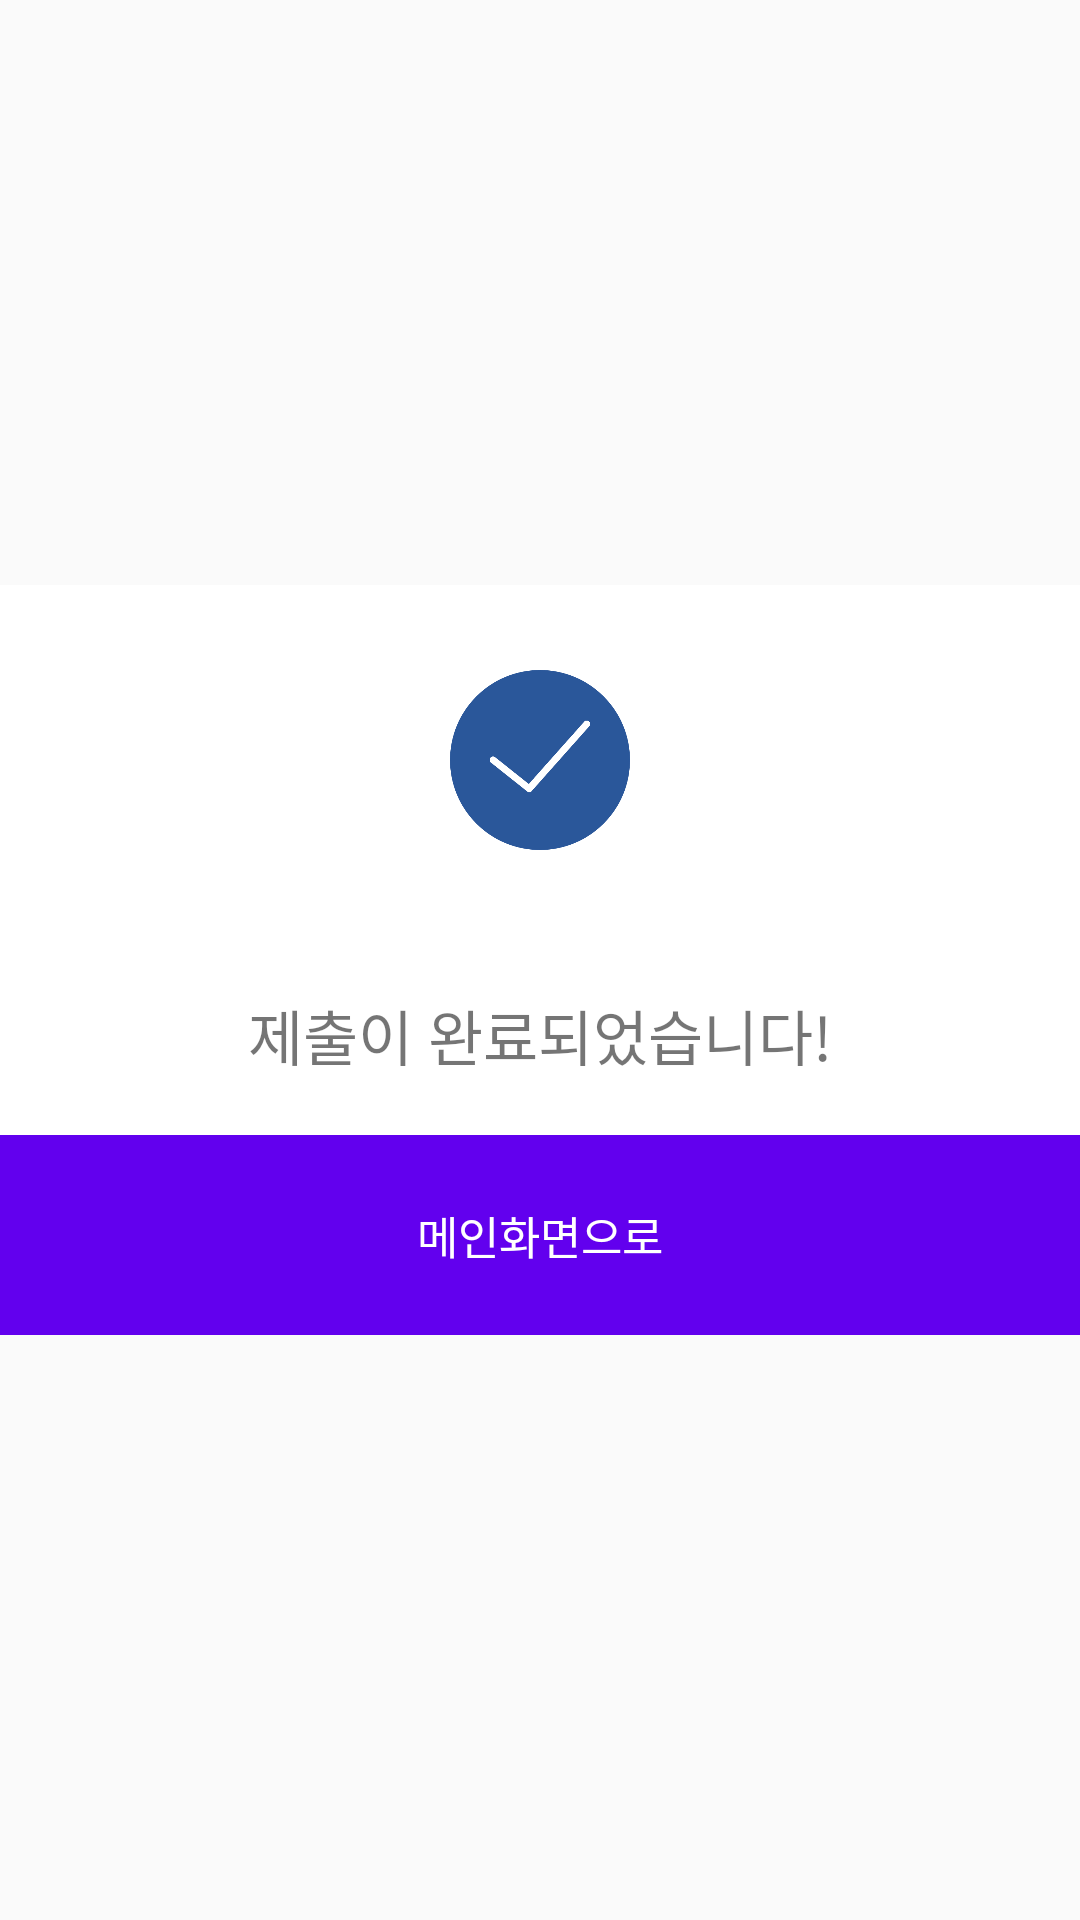

Locate icon controls on the screen. Image size 1080px×1920px, boxes as (x1, y1, x2, y2).
success: (450, 670, 630, 850)
